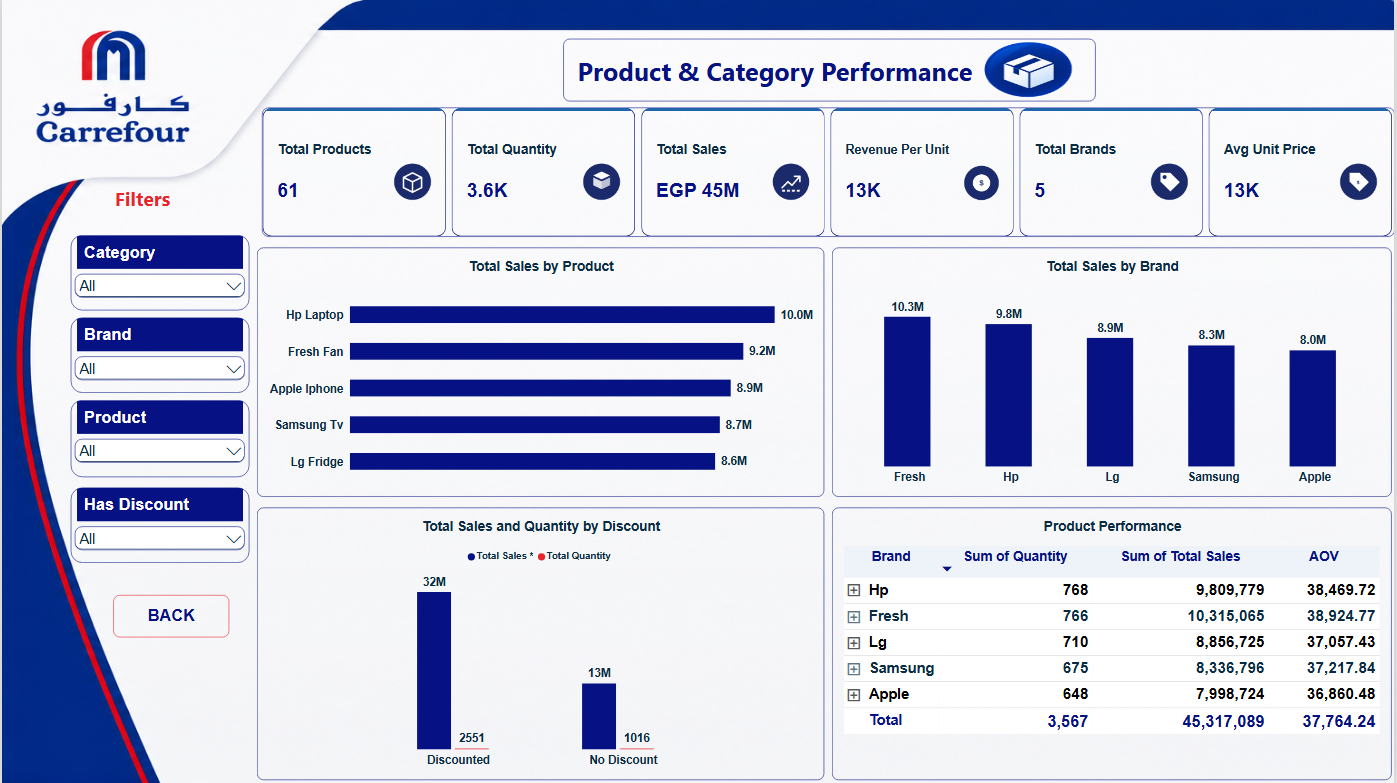

This screenshot's page, from the dashboard's own definition file:
{"tool":"powerbi","page":{"name":"Product & Category","canvas":[1920,1080],"ordinal":3},"visuals":[{"type":"cardVisual","fields":{"Data":["Sales.Total Products","Sales.Total Quantity","Sales.Total Sales *","Sales.Revenue Per Unit","Sales.Total Brands","Sales.Average Unit Price"]},"box":[358,148,1562,178],"z":0},{"type":"clusteredBarChart","title":"Total Sales by Product ","fields":{"Category":["Sales.ProductName"],"Y":["Sales.Total Sales *"]},"box":[352,342,782,344],"z":1000},{"type":"columnChart","title":"Total Sales by Brand","fields":{"Category":["Sales.Brand"],"Y":["Sales.Total Sales *"]},"box":[1144,342,772,344],"z":2000},{"type":"clusteredColumnChart","title":"Total Sales and Quantity by Discount","fields":{"Category":["Sales.Has Discount"],"Y":["Sales.Total Sales *","Sales.Total Quantity"]},"box":[352,700,782,376],"z":3000},{"type":"pivotTable","title":"Product Performance","fields":{"Values":["Sum(Sales.Quantity)","Sum(Sales.Total Sales)","Sales.AOV"],"Rows":["Sales.Brand","Sales.Category","Sales.ProductName"]},"box":[1144,700,772,376],"z":4000},{"type":"slicer","fields":{"Values":["Sales.Category"]},"box":[94,324,246,104],"z":5000},{"type":"slicer","fields":{"Values":["Sales.Brand"]},"box":[94,438,246,104],"z":6000},{"type":"slicer","fields":{"Values":["Sales.ProductName"]},"box":[94,552,246,106],"z":7000},{"type":"slicer","fields":{"Values":["Sales.Has Discount"]},"box":[94,672,246,104],"z":8000},{"type":"shape","box":[774,54,734,86],"z":9000},{"type":"shape","box":[74,238,239.6,66],"z":10000},{"type":"actionButton","box":[154,820,160,58],"z":11000},{"type":"image","box":[1334,38,174,118],"z":12000}]}

Visuals, with their boxes in screenshot pixels (x1, y1, x2, y2), scaled from the page's 1920x1080 canvas onto the 1397x783 screenshot:
cardVisual - Sales.Total Products x Sales.Total Quantity: (260,107,1396,236)
"Total Sales by Product " clusteredBarChart: (256,248,825,497)
"Total Sales by Brand" columnChart: (832,248,1394,497)
"Total Sales and Quantity by Discount" clusteredColumnChart: (256,508,825,780)
"Product Performance" pivotTable: (832,508,1394,780)
slicer - Sales.Category: (68,235,247,310)
slicer - Sales.Brand: (68,318,247,393)
slicer - Sales.ProductName: (68,400,247,477)
slicer - Sales.Has Discount: (68,487,247,563)
shape: (563,39,1097,102)
shape: (54,173,228,220)
actionButton: (112,594,228,637)
image: (971,28,1097,113)
